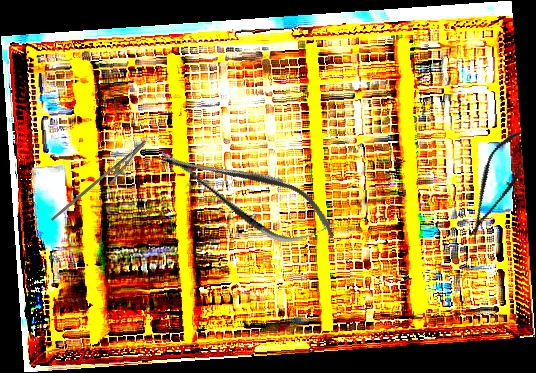Micro Scissor: (148, 126, 347, 263), (456, 125, 536, 244)
Needle Holder: (50, 129, 154, 238)
